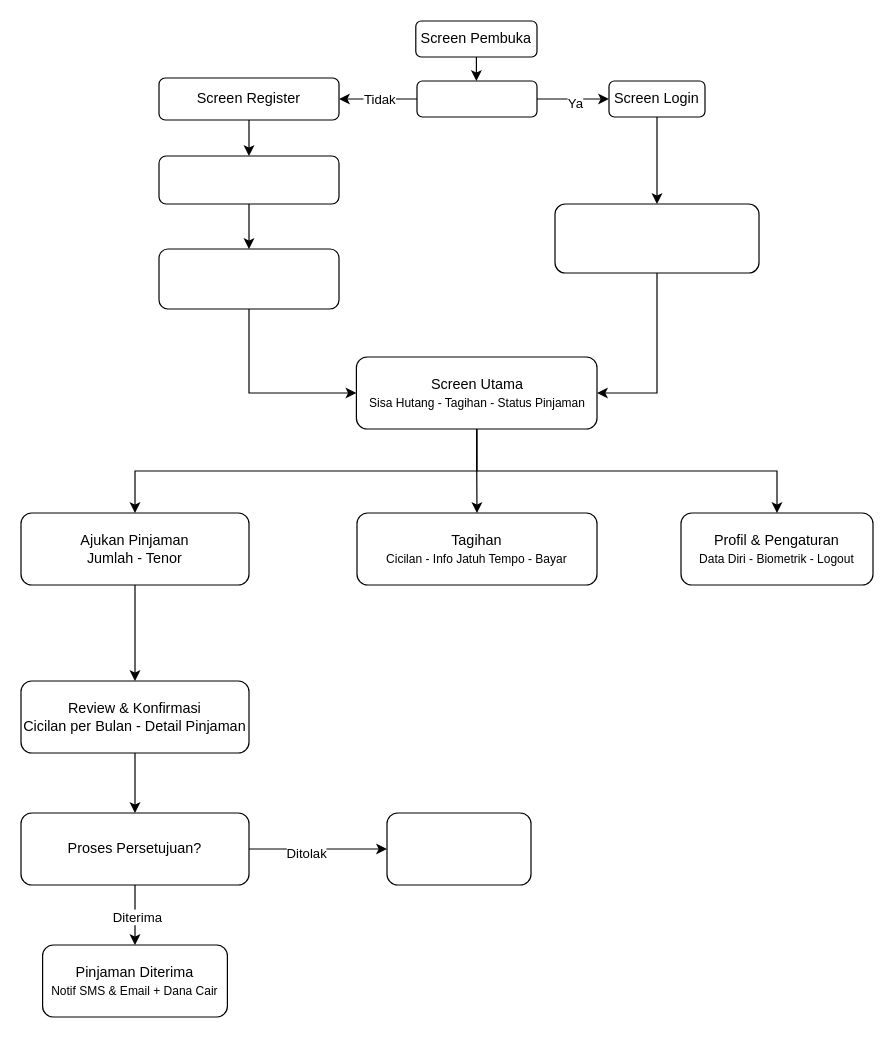
This 894x1038 diagram has some shape labels left out. The shapes that lost their labels are listed below. From the top down, each one's box as (x1, y1, x2, y2) in pixels, then its label:
(416, 80, 537, 117): Sudah punya Akun?
(158, 155, 339, 204): Isi Data Diri Email - Username - Password
(554, 203, 759, 273): Login Password / Biometrik Username Pasword - FaceID - Fingerprint
(158, 248, 339, 309): Upload KTP & Foto Selfie Verifikasi OCR KTP
(386, 812, 531, 885): Pinjaman Ditolak Notif SMS & Emai l
